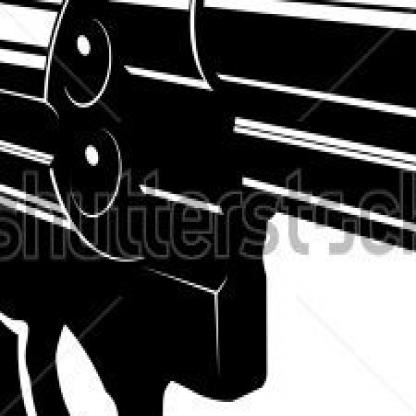gun: (0, 0, 414, 414)
